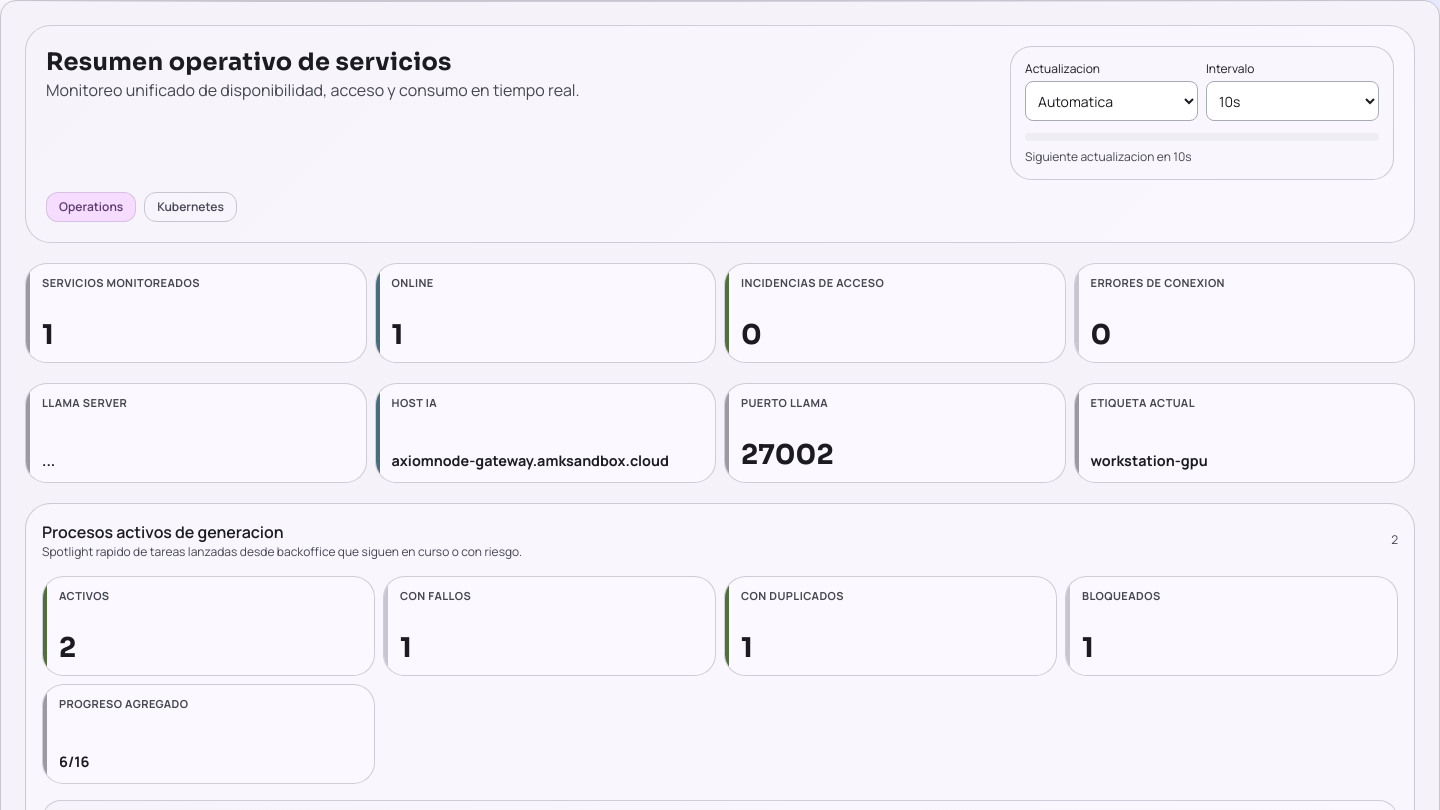
Test: ServiceOverviewPanel integration › renders the kubernetes tab with workload and pod consumption
Click the button "Kubernetes" at [191, 207], box [144,192,237,222]
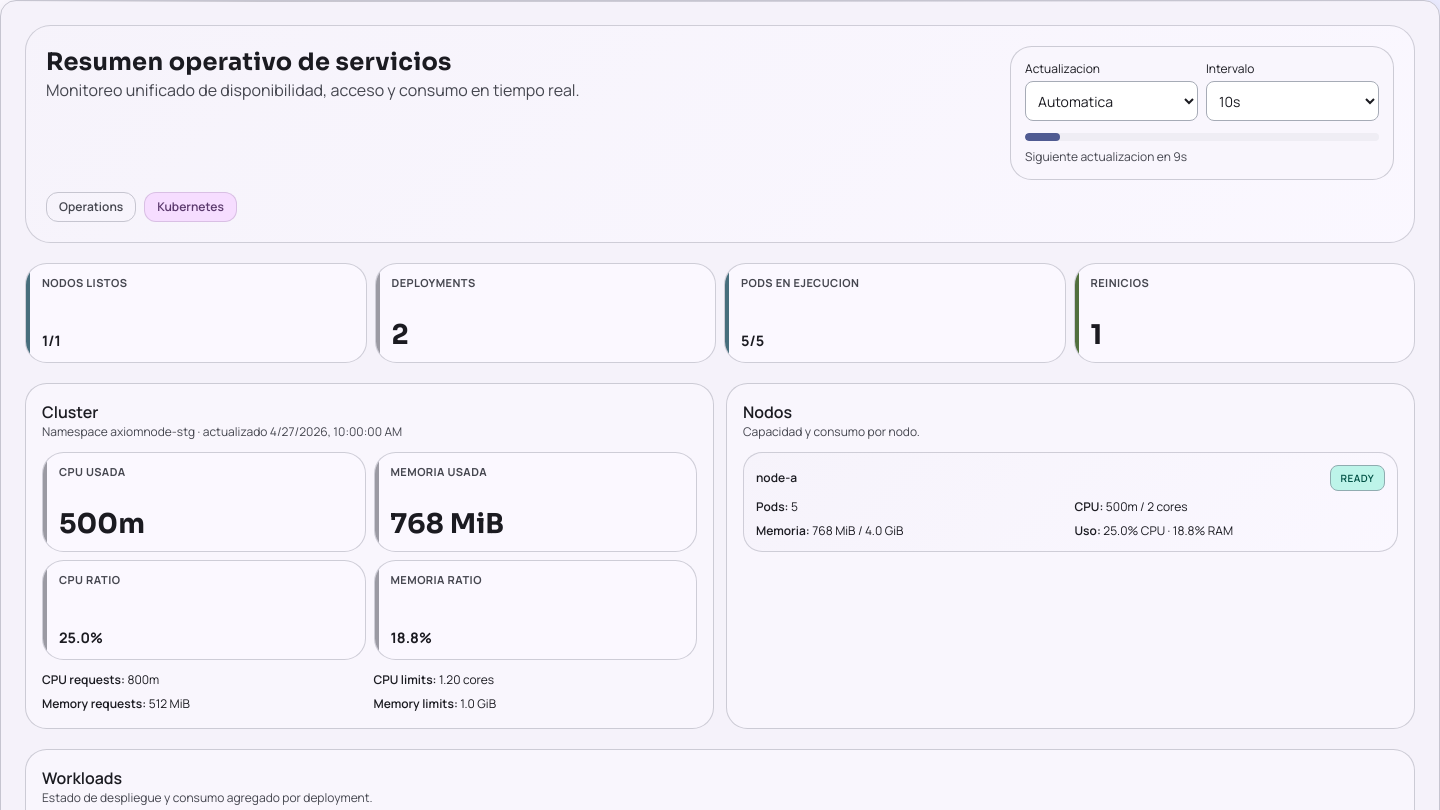
Expected: the text "Namespace axiomnode-stg · actualizado 4/27/2026, 10:00:00 AM" is shown, [42,423,402,440]
